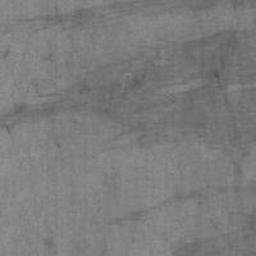Water spot: (0, 26, 256, 225), (14, 0, 256, 35), (166, 210, 256, 256)
